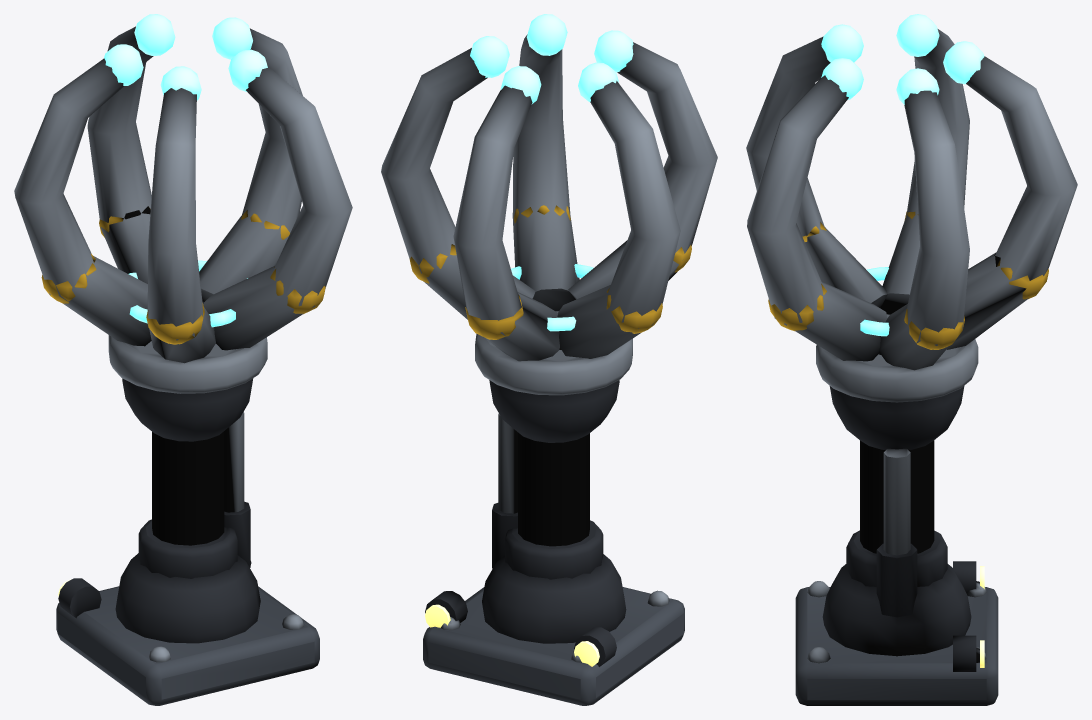
File: part_grapple_4.glb
The picture shows the model from 3 angles, left to right: view 1: azimuth 30°, elevation 25°; view 2: azimuth 150°, elevation 25°; view 3: azimuth 270°, elevation 25°; orthographic projection. The views are drawn at different scales.
Visible parts, largest first — view 1: grapple_claw_mesh.003, grapple_base.003, grapple_arm_mesh.003; view 2: grapple_claw_mesh.003, grapple_base.003, grapple_arm_mesh.003; view 3: grapple_claw_mesh.003, grapple_base.003, grapple_arm_mesh.003.
Part boxes in pixels (<box>): grapple_claw_mesh.003: <box>14,14,352,441</box>; grapple_base.003: <box>56,553,319,705</box>; grapple_arm_mesh.003: <box>138,412,250,578</box>; grapple_claw_mesh.003: <box>381,14,717,442</box>; grapple_base.003: <box>423,554,684,705</box>; grapple_arm_mesh.003: <box>492,413,603,579</box>; grapple_claw_mesh.003: <box>746,14,1077,449</box>; grapple_base.003: <box>795,561,998,705</box>; grapple_arm_mesh.003: <box>846,440,947,617</box>.
Bounding box in the file's own units: 0.7421 × 1.52 × 0.7116.
